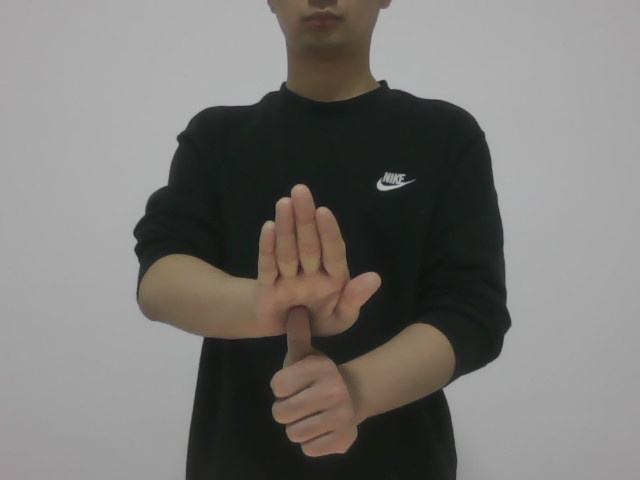love: (238, 176, 403, 480)
